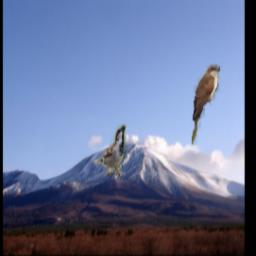Cuckoo: (191, 66, 220, 146)
Sparrow: (94, 125, 125, 177)
